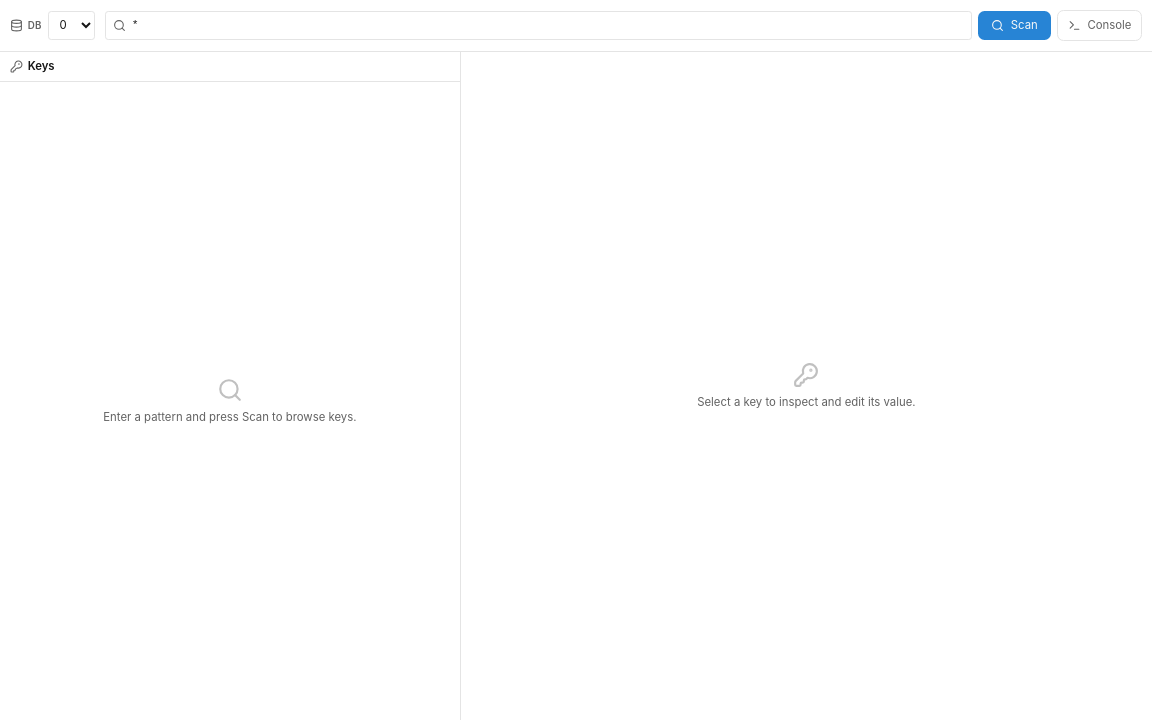
Test: RedisKeyBrowser › surfaces a scan error
Click the button "Scan".
click(1015, 25)  # box x1=978 y1=11 x2=1051 y2=40
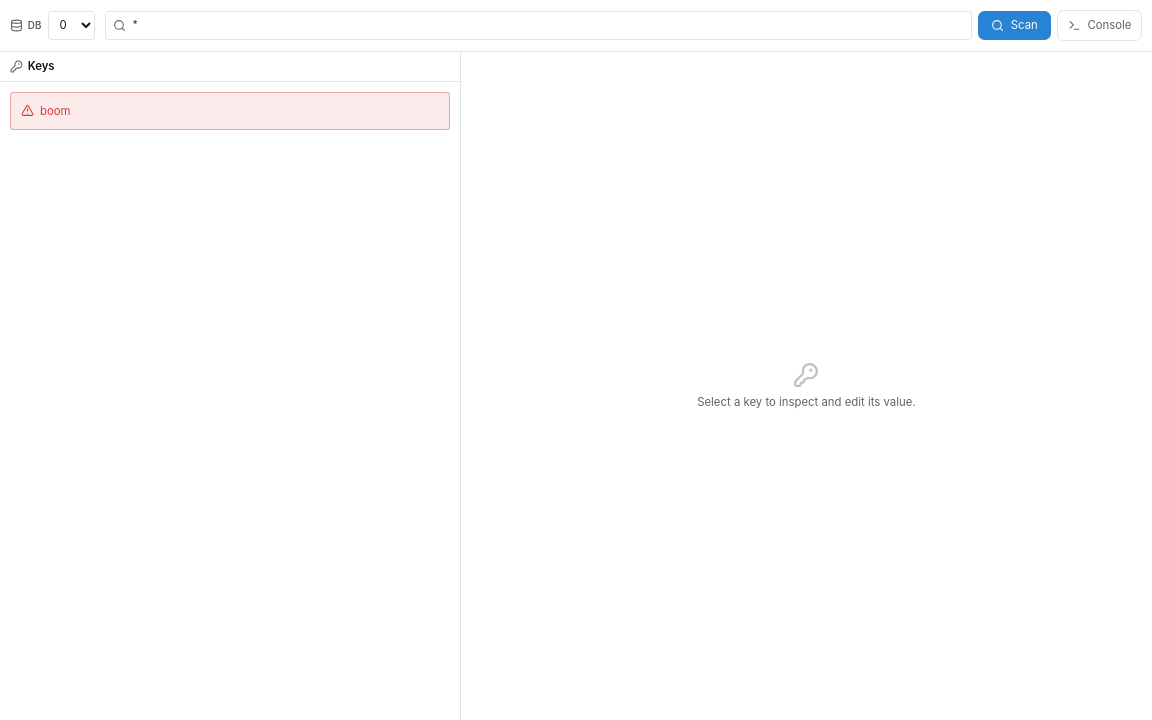
Expected: the text "boom" is shown, x1=40 y1=102 x2=70 y2=119
